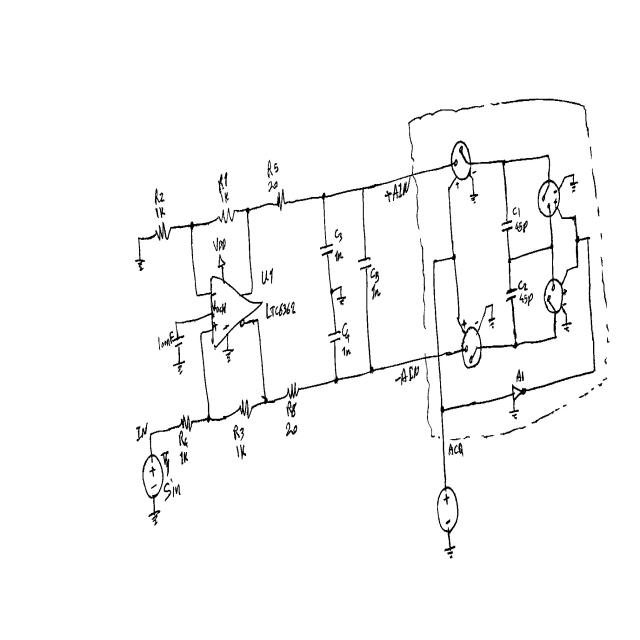capacitor: (358, 255, 372, 271), (319, 243, 334, 257), (172, 332, 185, 348), (328, 329, 341, 344), (505, 287, 517, 303), (501, 218, 513, 233)
crossover: (436, 351, 441, 360)
ground: (148, 509, 161, 527), (173, 360, 186, 375), (222, 348, 234, 363), (444, 545, 456, 559), (135, 258, 146, 271), (561, 321, 572, 333), (509, 409, 519, 420), (469, 193, 479, 204), (336, 295, 346, 306), (488, 317, 496, 330), (570, 181, 578, 192)
junction: (189, 220, 195, 231), (439, 404, 445, 415), (575, 234, 581, 245), (451, 252, 457, 262), (549, 241, 555, 251), (591, 365, 597, 375), (571, 212, 577, 222), (206, 413, 211, 424), (263, 394, 268, 405), (512, 340, 518, 349), (321, 191, 326, 201), (369, 365, 374, 375), (334, 375, 339, 384), (245, 205, 250, 214), (501, 158, 506, 167), (553, 332, 558, 341), (586, 233, 591, 242), (507, 256, 512, 264), (199, 330, 204, 338), (560, 214, 565, 222), (565, 267, 570, 274), (137, 235, 141, 243), (174, 318, 178, 326), (432, 257, 436, 265), (195, 291, 199, 299), (329, 287, 333, 295), (149, 431, 153, 439), (546, 152, 550, 159), (447, 185, 451, 192), (361, 186, 365, 192), (456, 316, 460, 322), (256, 317, 260, 323), (576, 262, 579, 269), (563, 174, 566, 181), (471, 176, 475, 181), (564, 312, 568, 317), (340, 284, 343, 290), (250, 290, 253, 296), (572, 172, 575, 178), (491, 303, 494, 308), (485, 305, 488, 309)
resistor: (155, 221, 172, 242), (217, 205, 235, 224), (238, 398, 252, 419), (286, 380, 300, 400), (180, 414, 193, 432), (276, 189, 286, 211)
source: (436, 485, 459, 536), (142, 452, 164, 500), (217, 253, 226, 269)
switch: (460, 316, 485, 370), (537, 175, 564, 221), (542, 275, 567, 317), (450, 140, 472, 181)
text: (384, 178, 411, 203), (265, 300, 296, 320), (395, 364, 419, 386), (163, 477, 181, 502), (158, 330, 174, 352), (448, 441, 466, 458), (261, 266, 274, 287), (160, 450, 170, 477), (217, 172, 228, 194), (212, 236, 227, 252), (267, 159, 279, 178), (519, 291, 533, 307), (212, 300, 226, 316), (136, 422, 147, 442), (232, 423, 244, 441), (285, 421, 298, 437), (286, 400, 297, 418), (236, 443, 247, 461), (154, 188, 165, 206), (515, 220, 529, 234), (178, 429, 188, 448), (342, 322, 350, 344), (371, 283, 381, 300), (179, 450, 189, 466), (370, 267, 379, 284), (334, 228, 343, 243), (517, 279, 528, 291), (155, 207, 166, 219), (268, 179, 278, 192), (516, 369, 525, 383), (342, 345, 351, 358), (512, 205, 521, 217), (334, 250, 343, 262), (221, 191, 229, 203), (461, 318, 467, 329), (213, 321, 218, 332), (563, 286, 567, 296), (474, 319, 478, 326), (472, 169, 477, 174), (456, 181, 459, 189), (563, 301, 567, 307), (553, 199, 557, 204), (553, 189, 556, 193)
